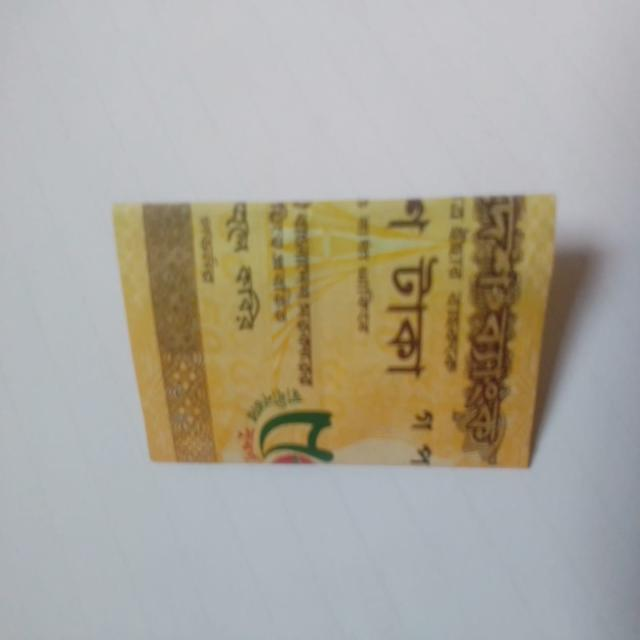Taka: (107, 186, 583, 492)
